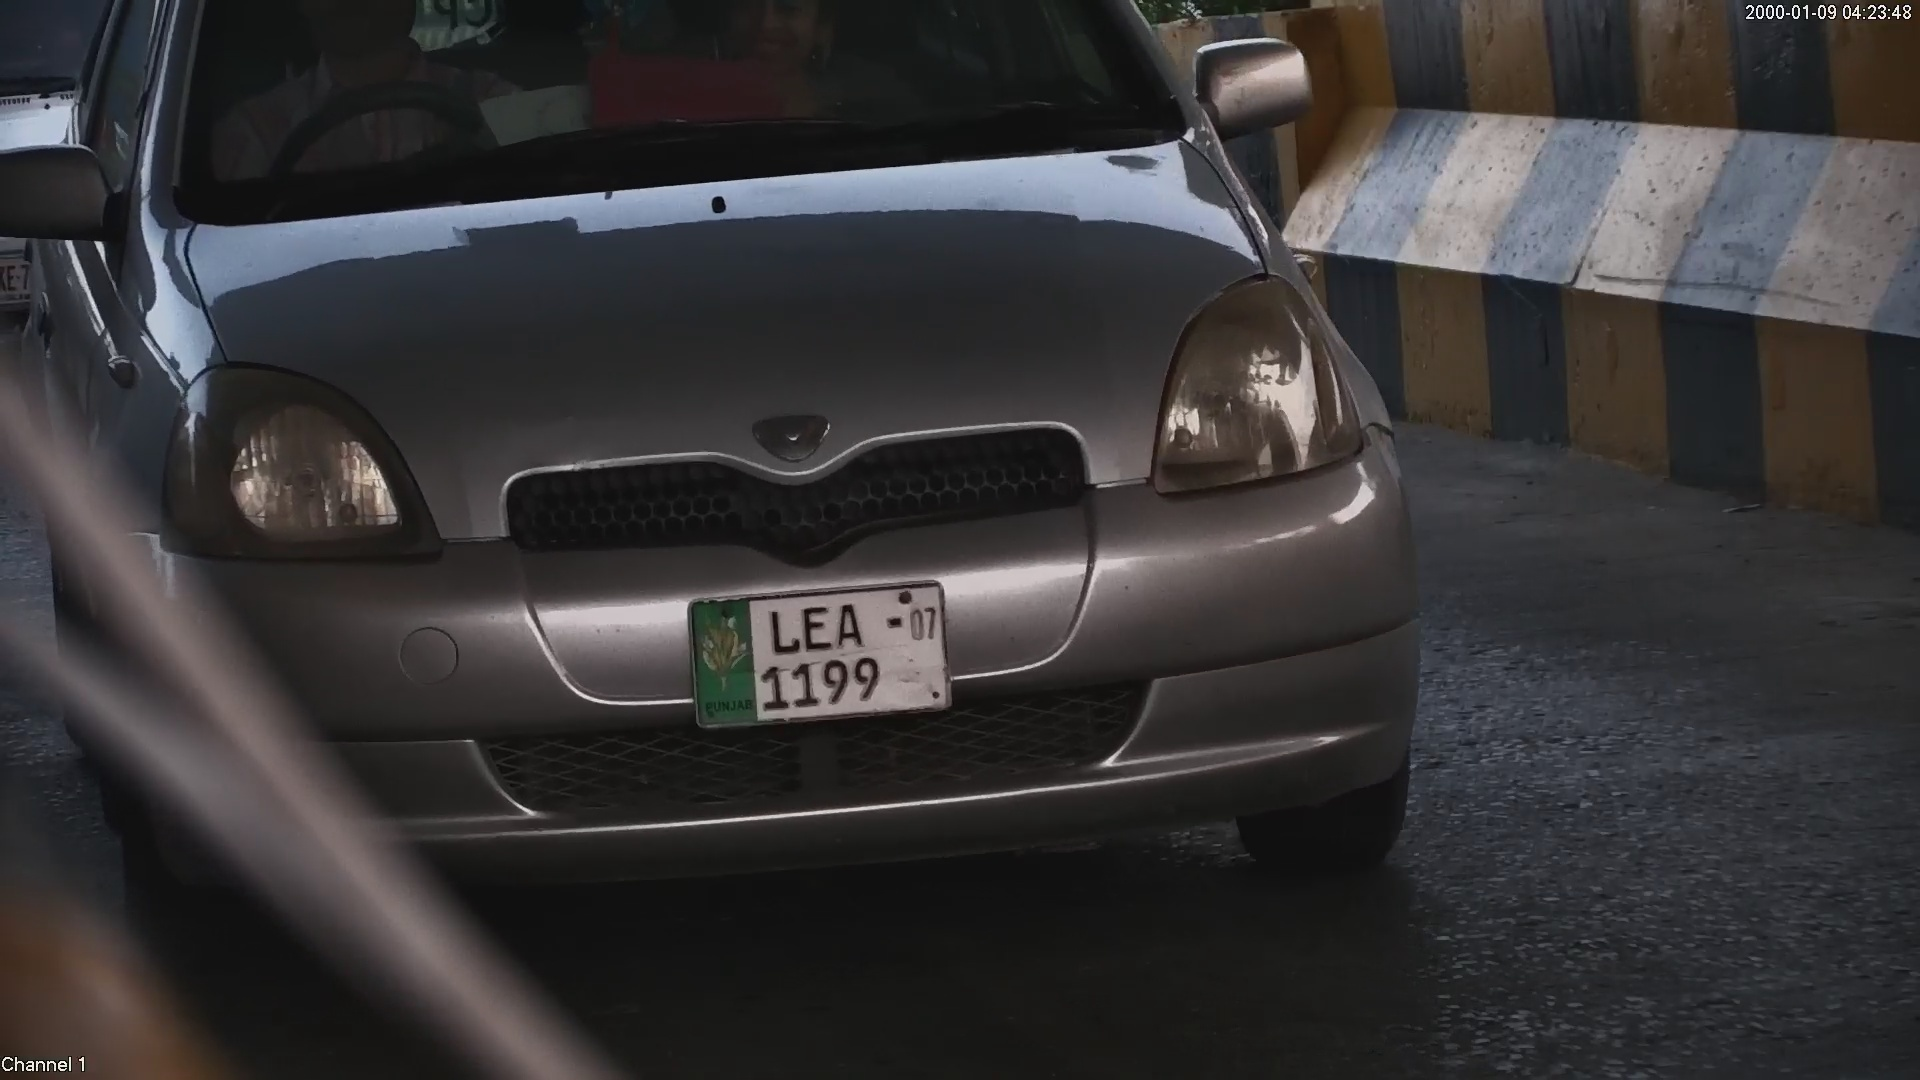Number_Plate: (678, 583, 956, 731)
